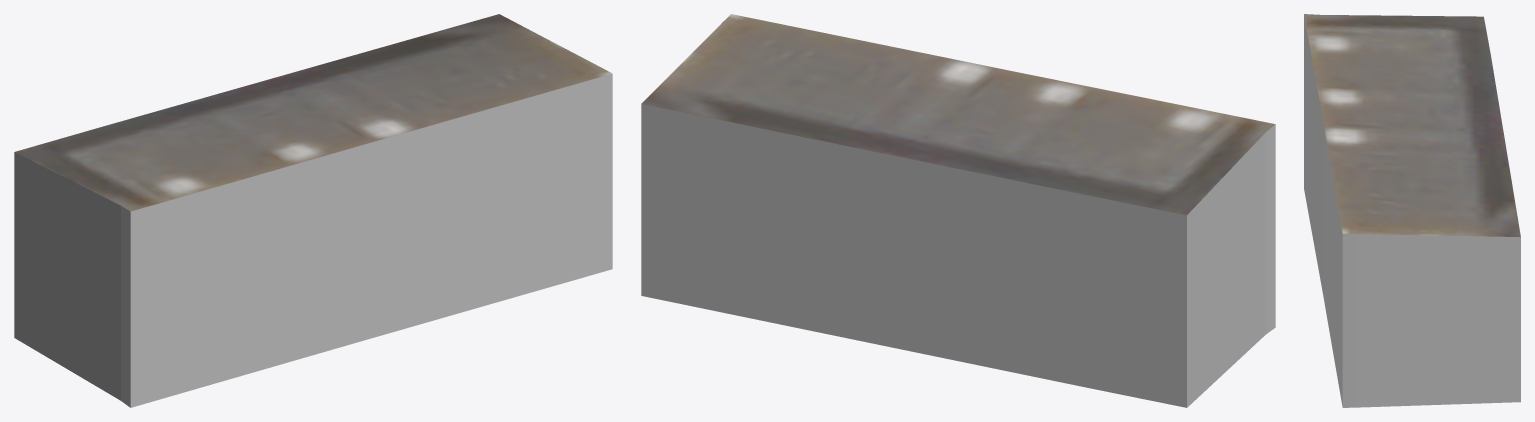
Rendered from DEBW_0010007Txip.gltf.
3 views of the same model, side by side, from view 1: azimuth 30°, elevation 25°; view 2: azimuth 150°, elevation 25°; view 3: azimuth 270°, elevation 25° (orthographic). The views are drawn at different scales.
Visible parts, largest first — view 1: Z_UP; view 2: Z_UP; view 3: Z_UP.
Boxes of the visible parts, x1,y1,x2,y2 form: Z_UP: [14, 14, 612, 407]; Z_UP: [641, 14, 1275, 407]; Z_UP: [1304, 14, 1520, 407].
Bounding box in the file's own units: 17.14 × 6.19 × 6.96.
Materials: 2 (1 with a texture image).
